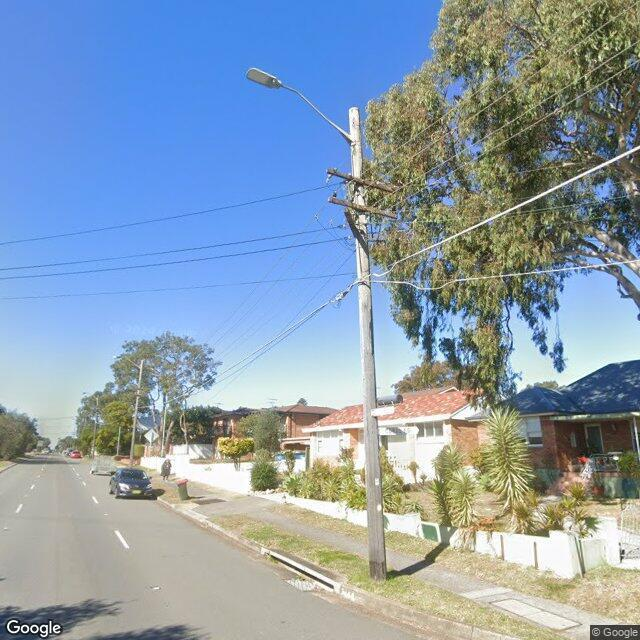crossarm: (324, 168, 400, 194), (328, 197, 398, 220)
streetlight: (245, 67, 356, 144), (112, 354, 142, 369), (83, 391, 97, 400)
timber-pole: (347, 108, 388, 582), (128, 360, 144, 466), (91, 393, 99, 456)
